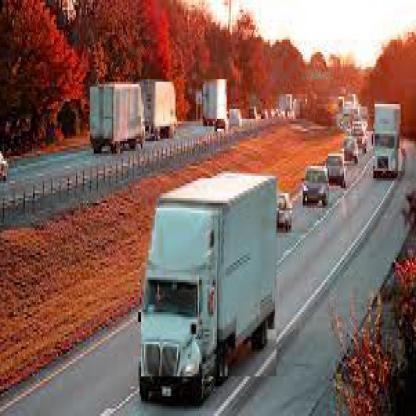car: (308, 170, 328, 207), (329, 155, 347, 192), (279, 194, 293, 229), (346, 138, 359, 165), (229, 110, 242, 130)
container: (374, 103, 405, 175)
truck: (141, 179, 278, 380), (90, 88, 146, 147), (150, 78, 178, 140), (204, 81, 228, 123)
